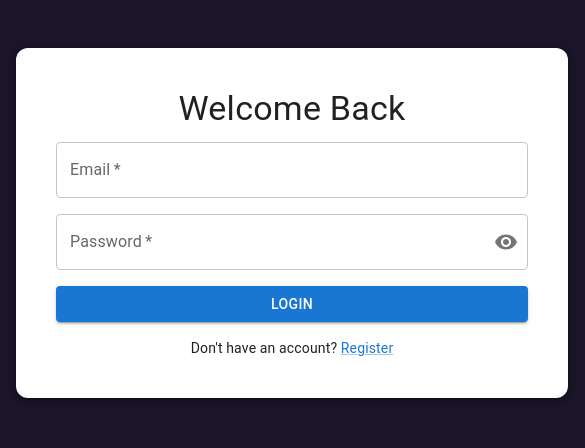
it: LoginPage › error messages › should show the incorrect credentials message when supabase returns an error
The width and height of the screenshot is (585, 448).
In the field labelled "Email *": x=292, y=170 56,142 -> 528,198, type "user@test.com"
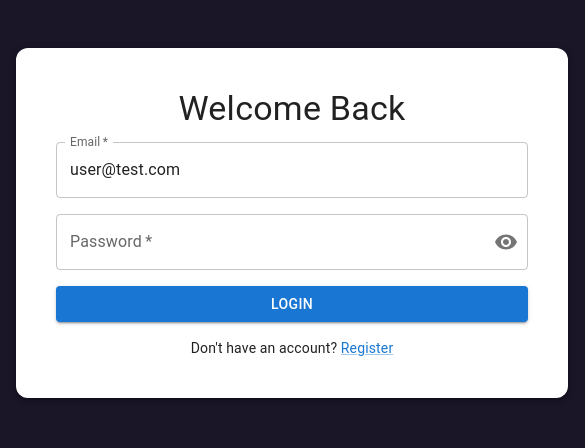
In the password field labelled "Password *": x=267, y=242 56,214 -> 478,270, type "wrongpassword"
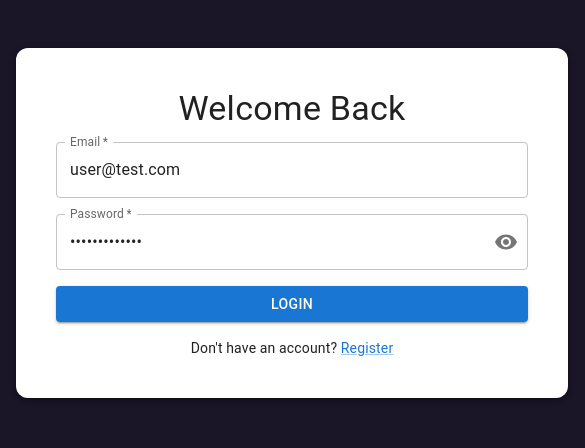
Click the button "Login": x=292, y=304 56,286 -> 528,322
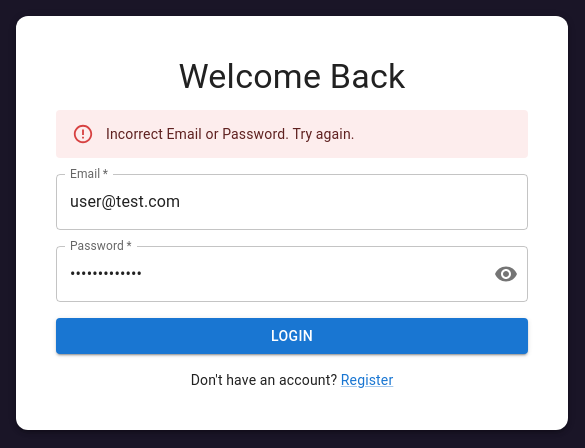
Expected: the text "Incorrect Email or Password. Try again." is shown, 106,126 -> 355,142
